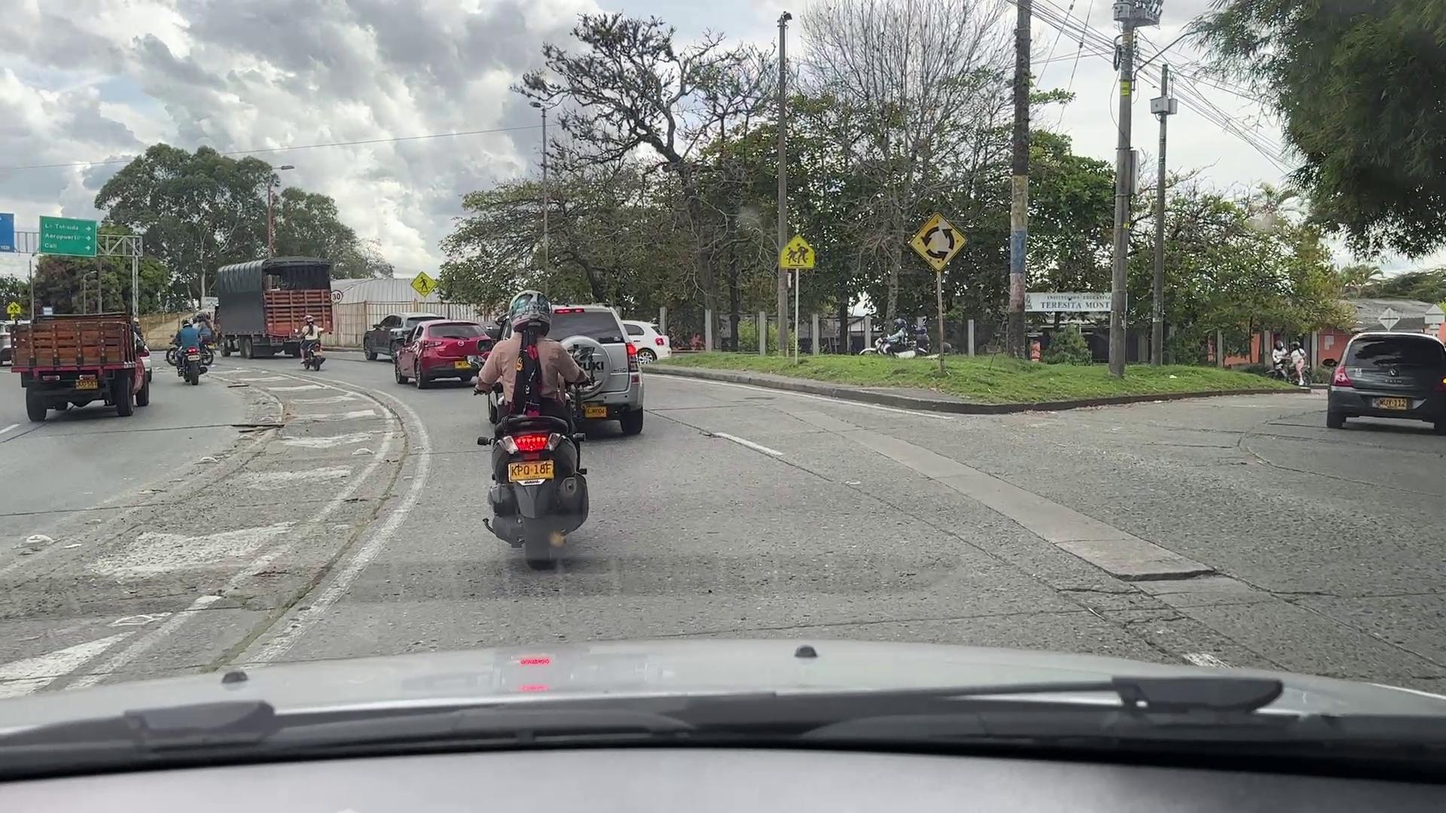bache: (1112, 569, 1230, 581)
grieta: (1056, 584, 1188, 604)
